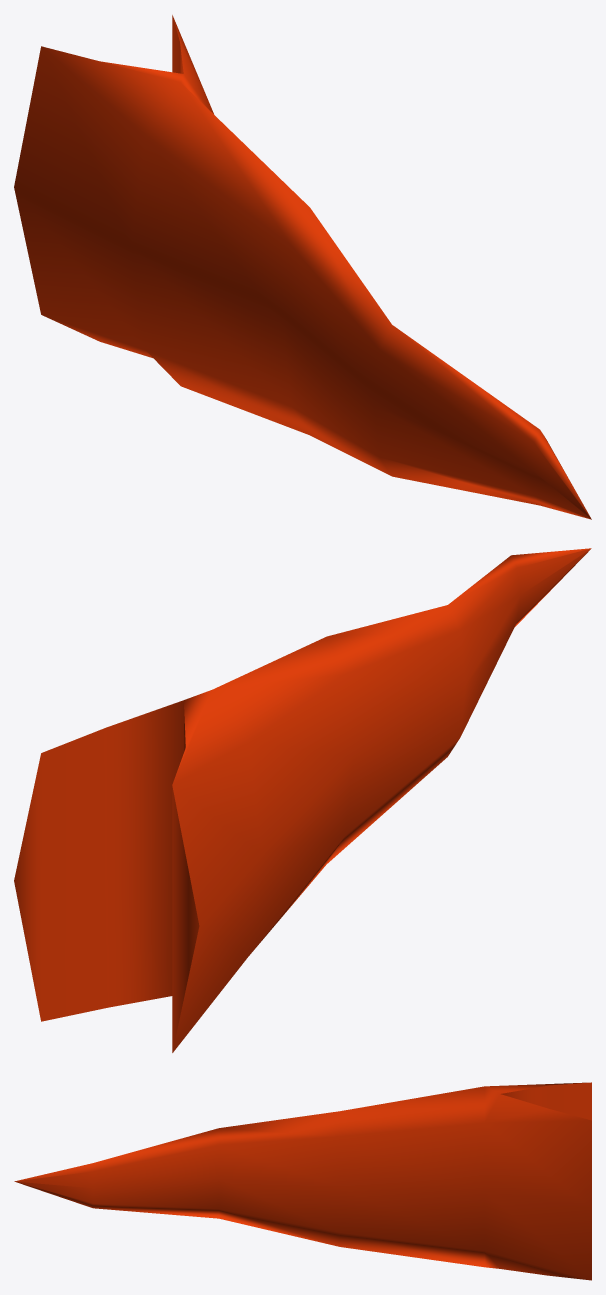
File: Flag.fbx
3 renders of one model, top to bottom at view 1: azimuth 30°, elevation 25°; view 2: azimuth 150°, elevation 25°; view 3: azimuth 270°, elevation 25°, orthographic. The views are drawn at different scales.
Visible parts, largest first — view 1: pCone1; view 2: pCone1; view 3: pCone1.
Part boxes in pixels (x1,y1,x2,y2): pCone1: (14,15,591,519); pCone1: (14,548,591,1052); pCone1: (14,1082,591,1280).
Bounding box in the file's own units: 1.41 × 2.21 × 6.39.
